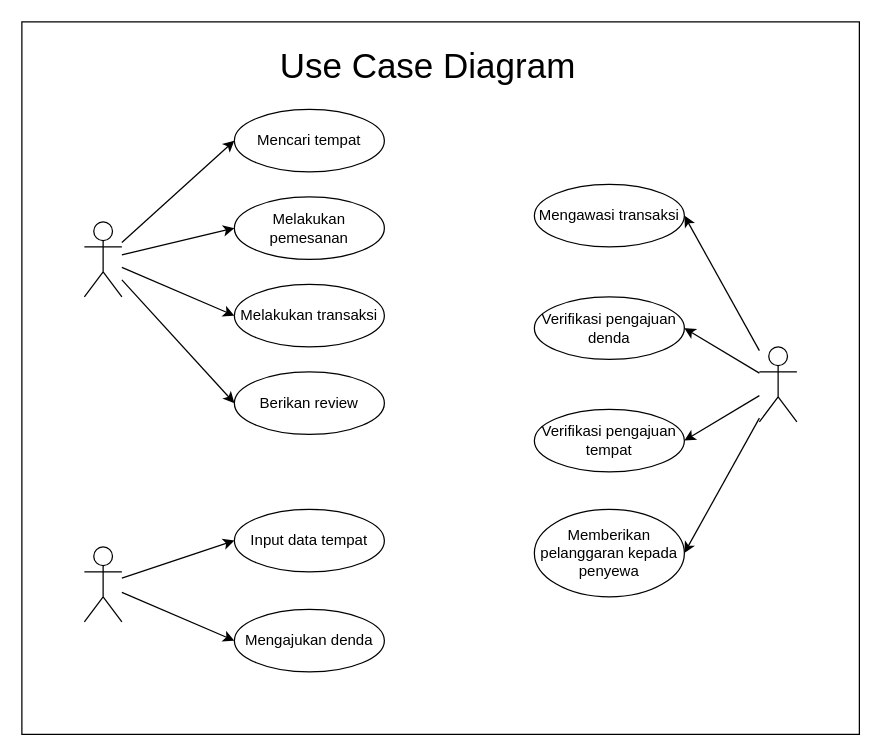
Some shapes in this 881 by 756 pixel diagram are drawn without their labels. Each missing label, with the box of its shape:
Admin: (758, 346, 797, 422)
Penyedia: (83, 546, 122, 622)
Penyewa: (83, 221, 122, 297)
